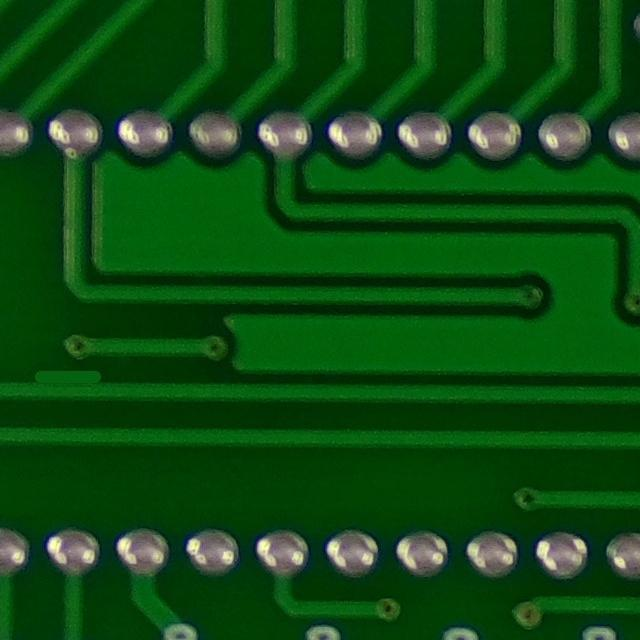spur: (20, 354, 110, 401)
